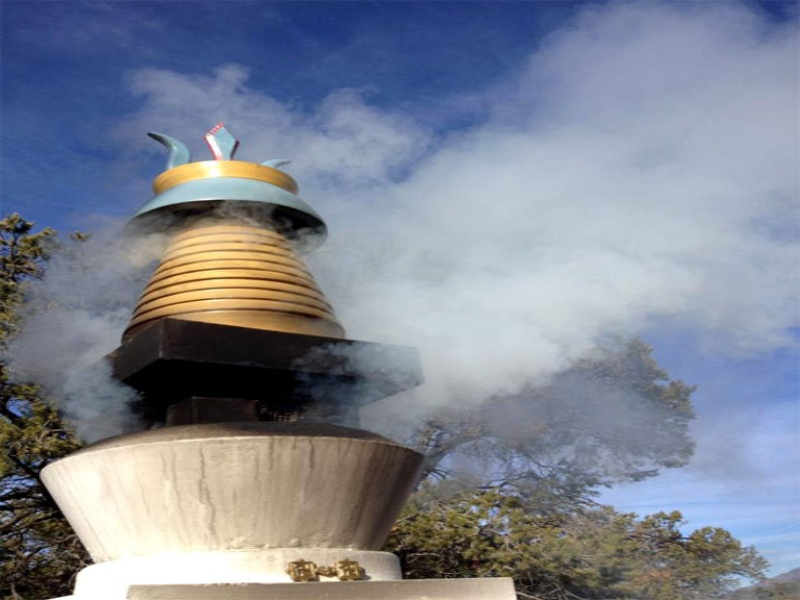smoke: (184, 84, 794, 355)
